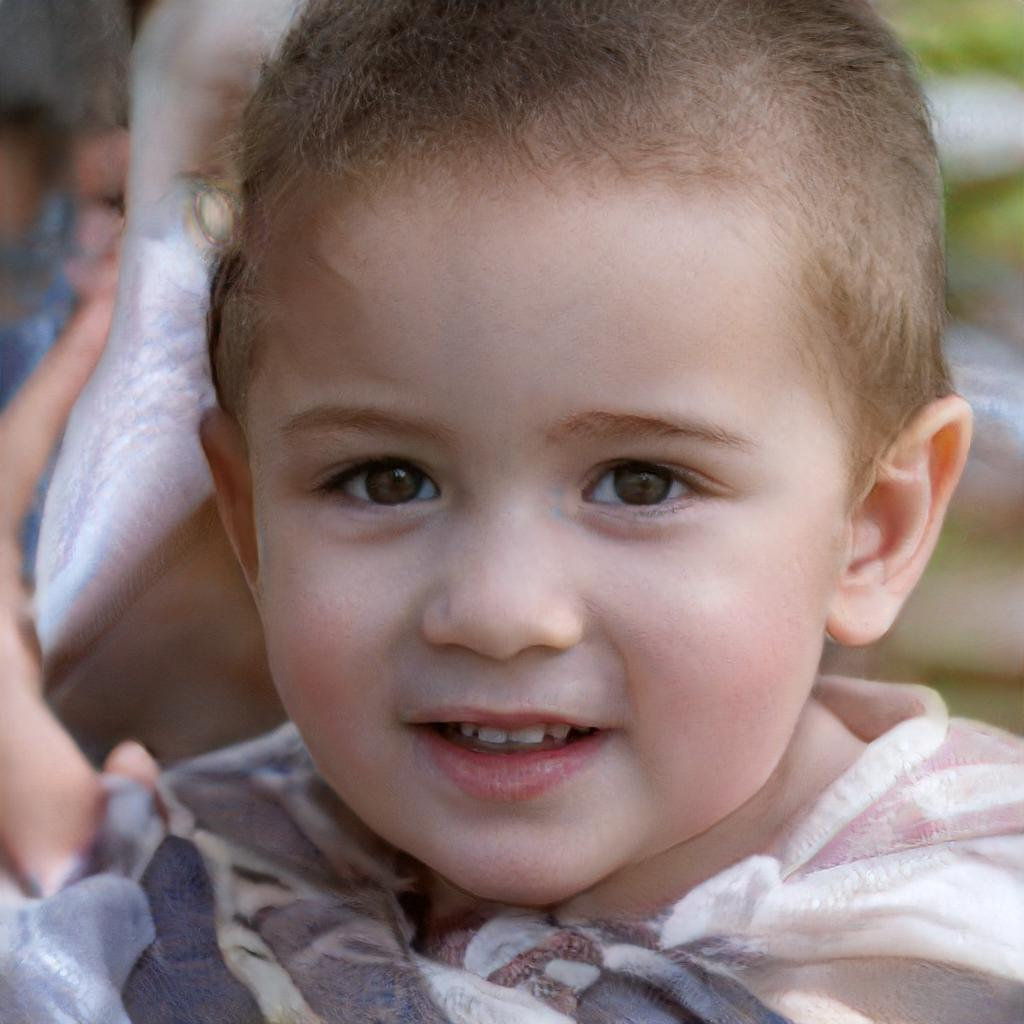face: (255, 161, 829, 905)
